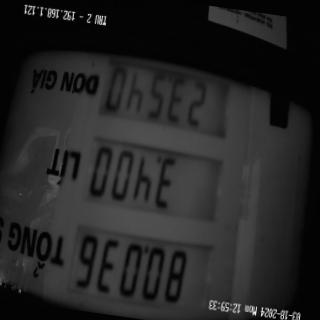screen: (61, 32, 246, 320)
